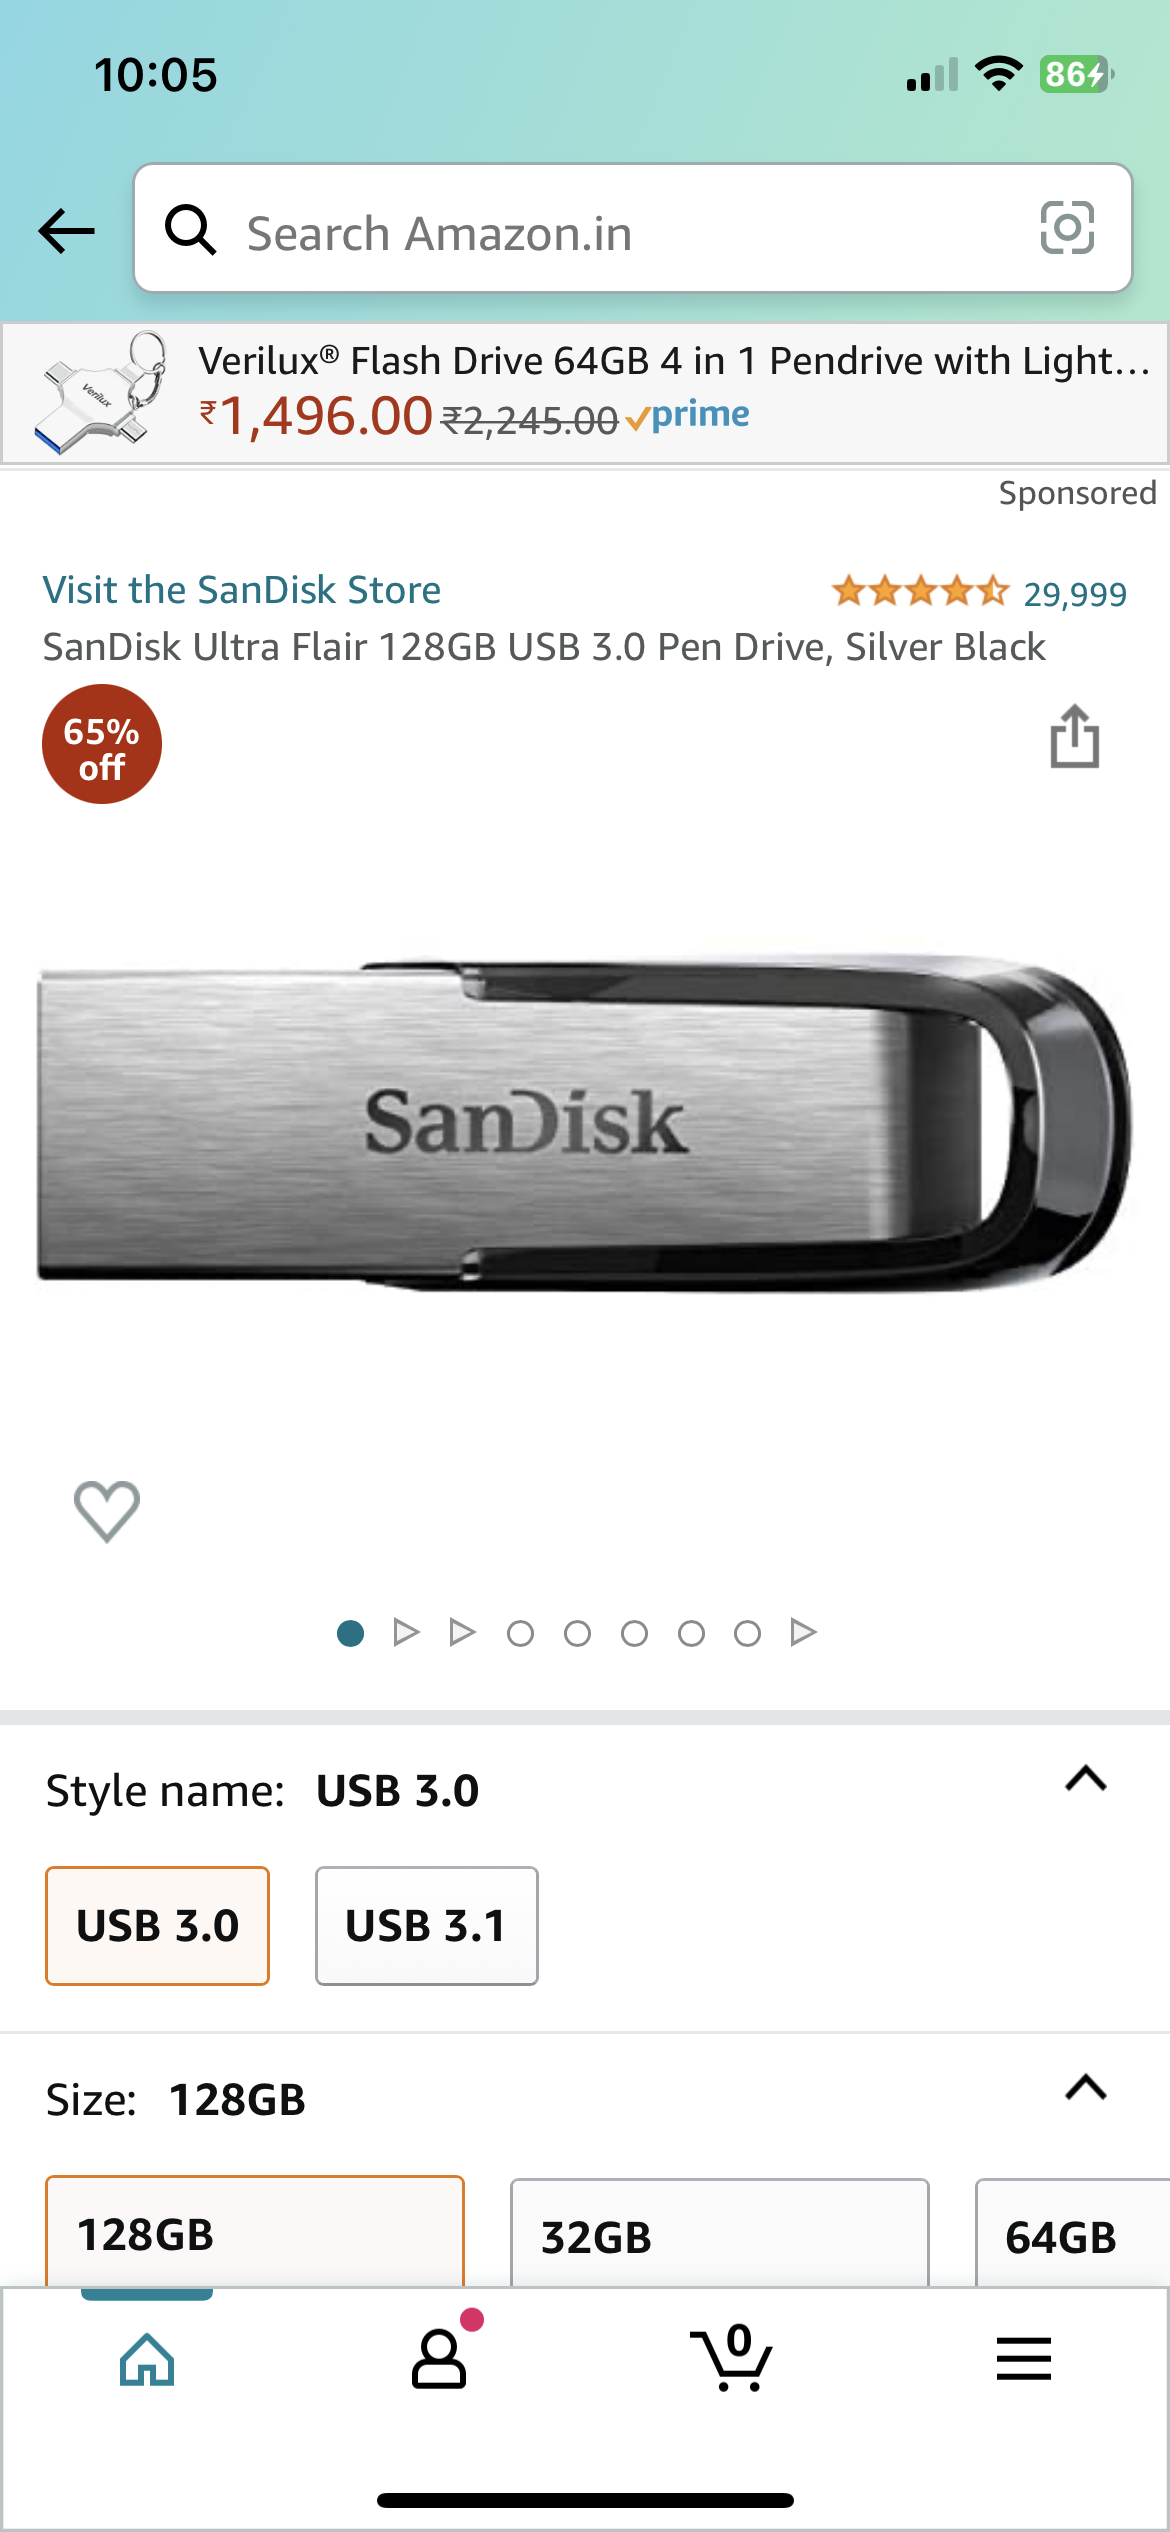PenDrive: (36, 958, 1131, 1298)
